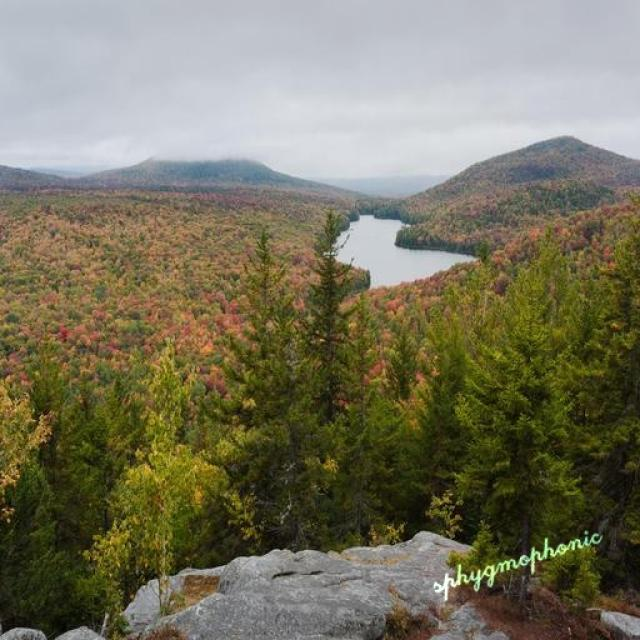watermark: (428, 518, 602, 596)
